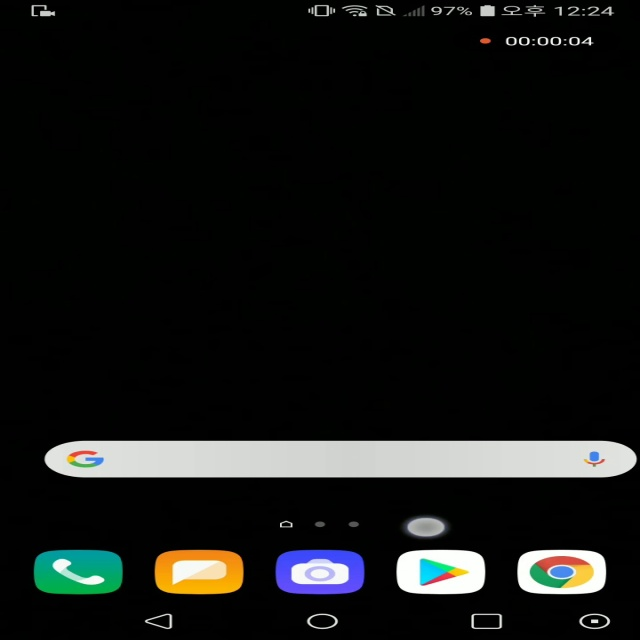Cursor: (405, 516, 449, 539)
